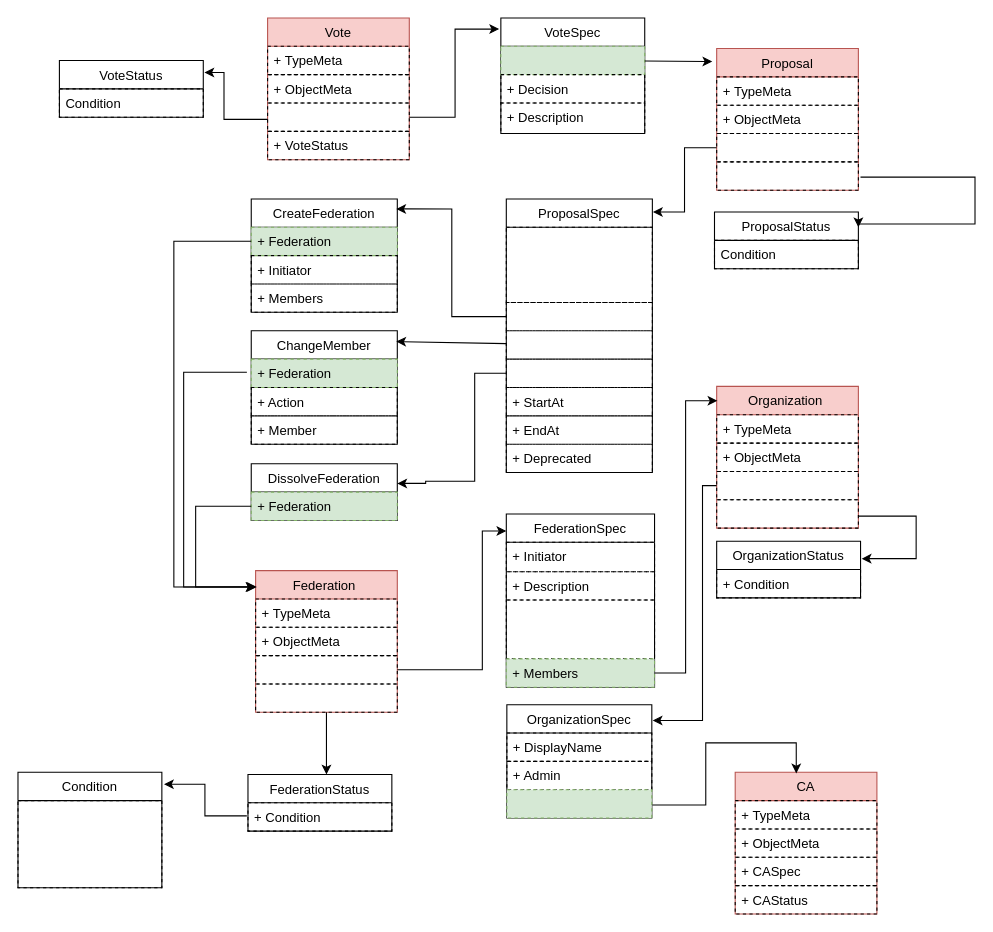
This 993x932 diagram has some shape labels left out. The shapes that lost their labels are listed below. From the top down, each one's centre as x and y in pixels, then its label:
(x=572, y=60): + ProposalID
(x=338, y=116): + VoteSpec
(x=787, y=147): + ProposalSpec
(x=787, y=175): + ProposalStatus
(x=578, y=264): + Kind - CreateFederation - ChangeMember - DissolveFederation
(x=578, y=316): + CreateFederation
(x=578, y=344): + ChangeMember
(x=578, y=372): + DissolveFederation
(x=787, y=485): + OrganizationSpec
(x=787, y=513): + OrganizationStatus
(x=580, y=629): + Policy - OneVote - Majority
(x=326, y=669): + FederationSpec
(x=326, y=697): + FederationStatus
(x=579, y=803): + CARef
(x=89, y=844): + ConditionType - Pending - Activated - Dissolved + ConditionStatus
